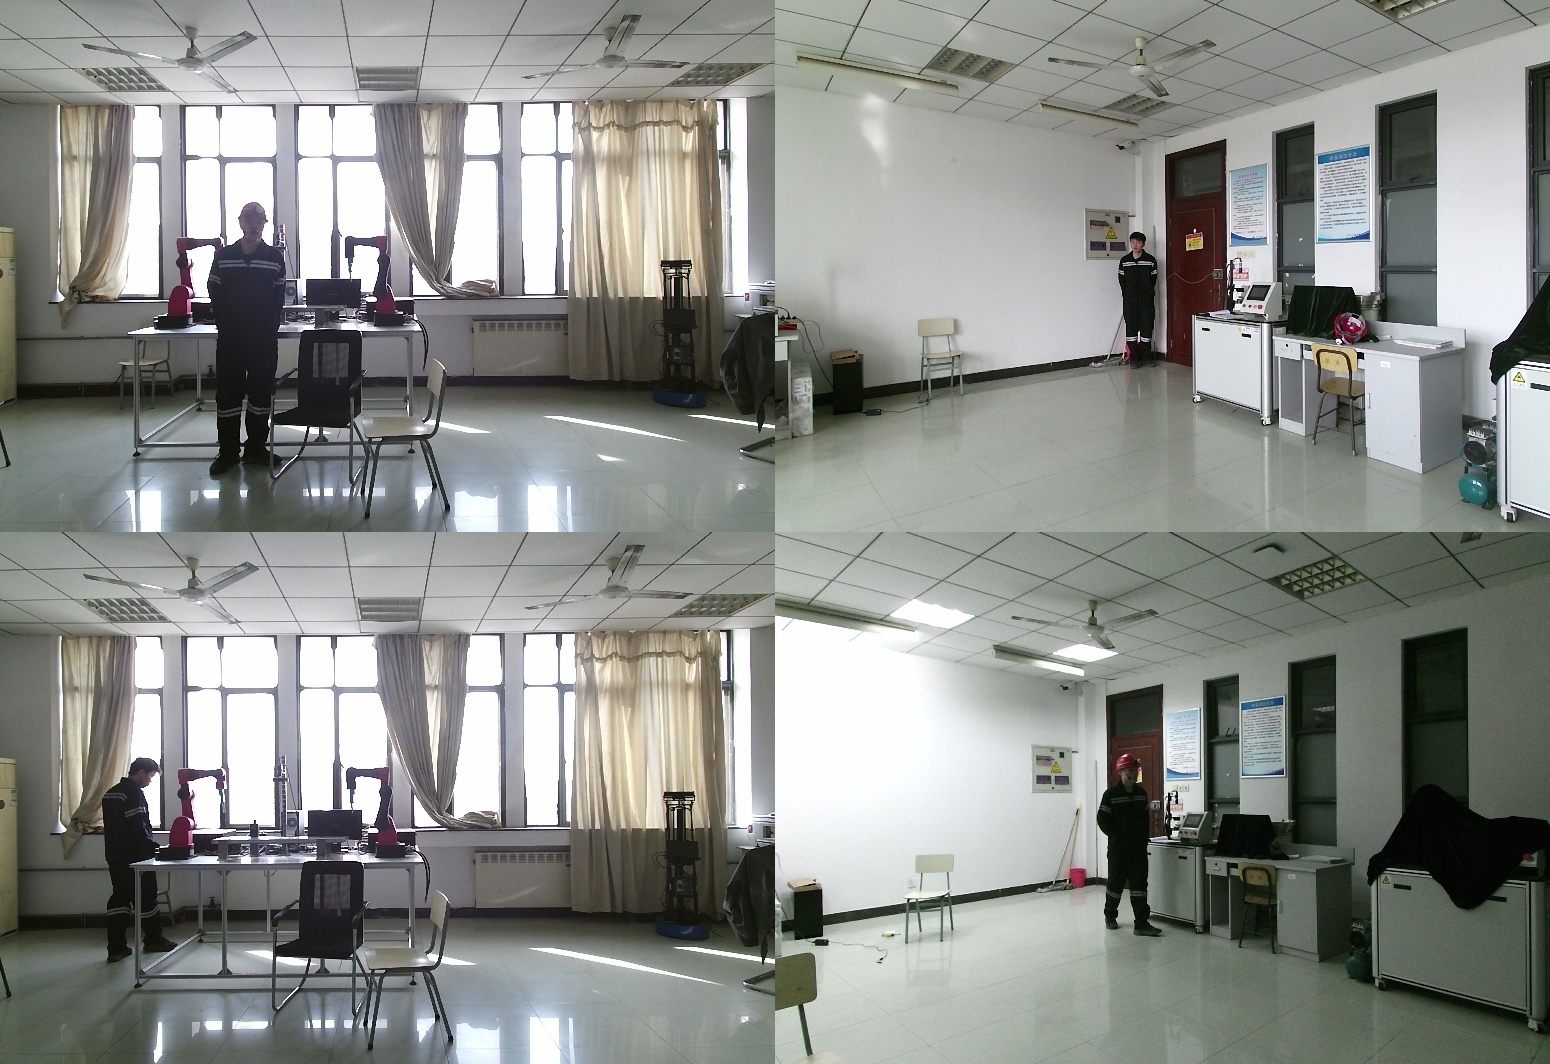person: (206, 202, 290, 479), (94, 757, 177, 963), (1085, 757, 1165, 941), (1116, 232, 1161, 370)
